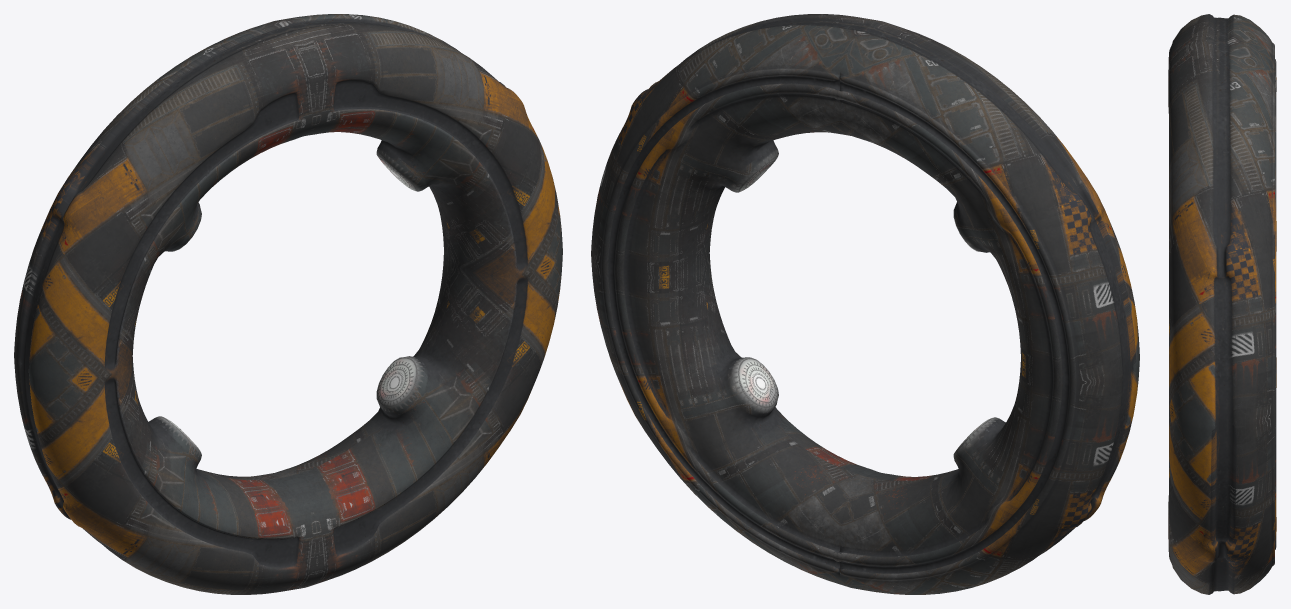
Rendered from artifact_ring_01.fbx.
3 renders of one model, left to right at view 1: azimuth 30°, elevation 25°; view 2: azimuth 150°, elevation 25°; view 3: azimuth 270°, elevation 25°, orthographic. The views are drawn at different scales.
Parts seen in each view (by area): view 1: alien_artifact_ring_02:Mesh; view 2: alien_artifact_ring_02:Mesh; view 3: alien_artifact_ring_02:Mesh.
Part boxes in pixels (box(x1,y1,x2,y2)): alien_artifact_ring_02:Mesh: box(14, 14, 562, 594); alien_artifact_ring_02:Mesh: box(591, 14, 1139, 594); alien_artifact_ring_02:Mesh: box(1168, 14, 1276, 594).
Bounding box in the file's own units: 2.46 × 2.47 × 0.4588.
